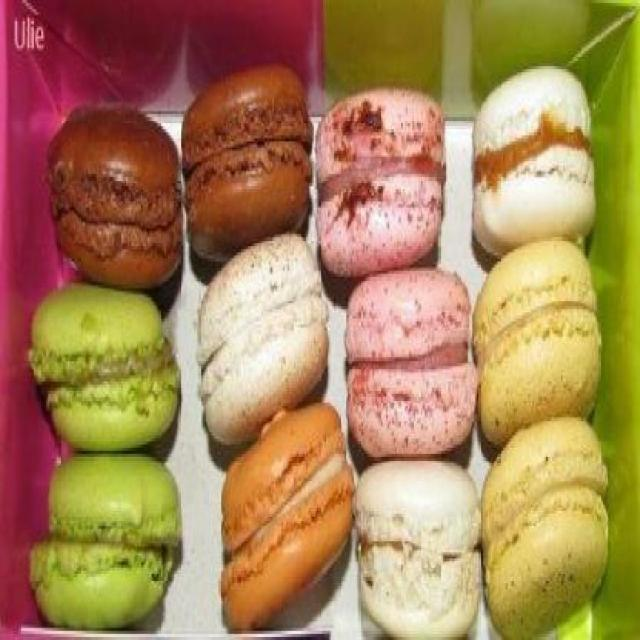Macaron: (21, 57, 622, 637)
